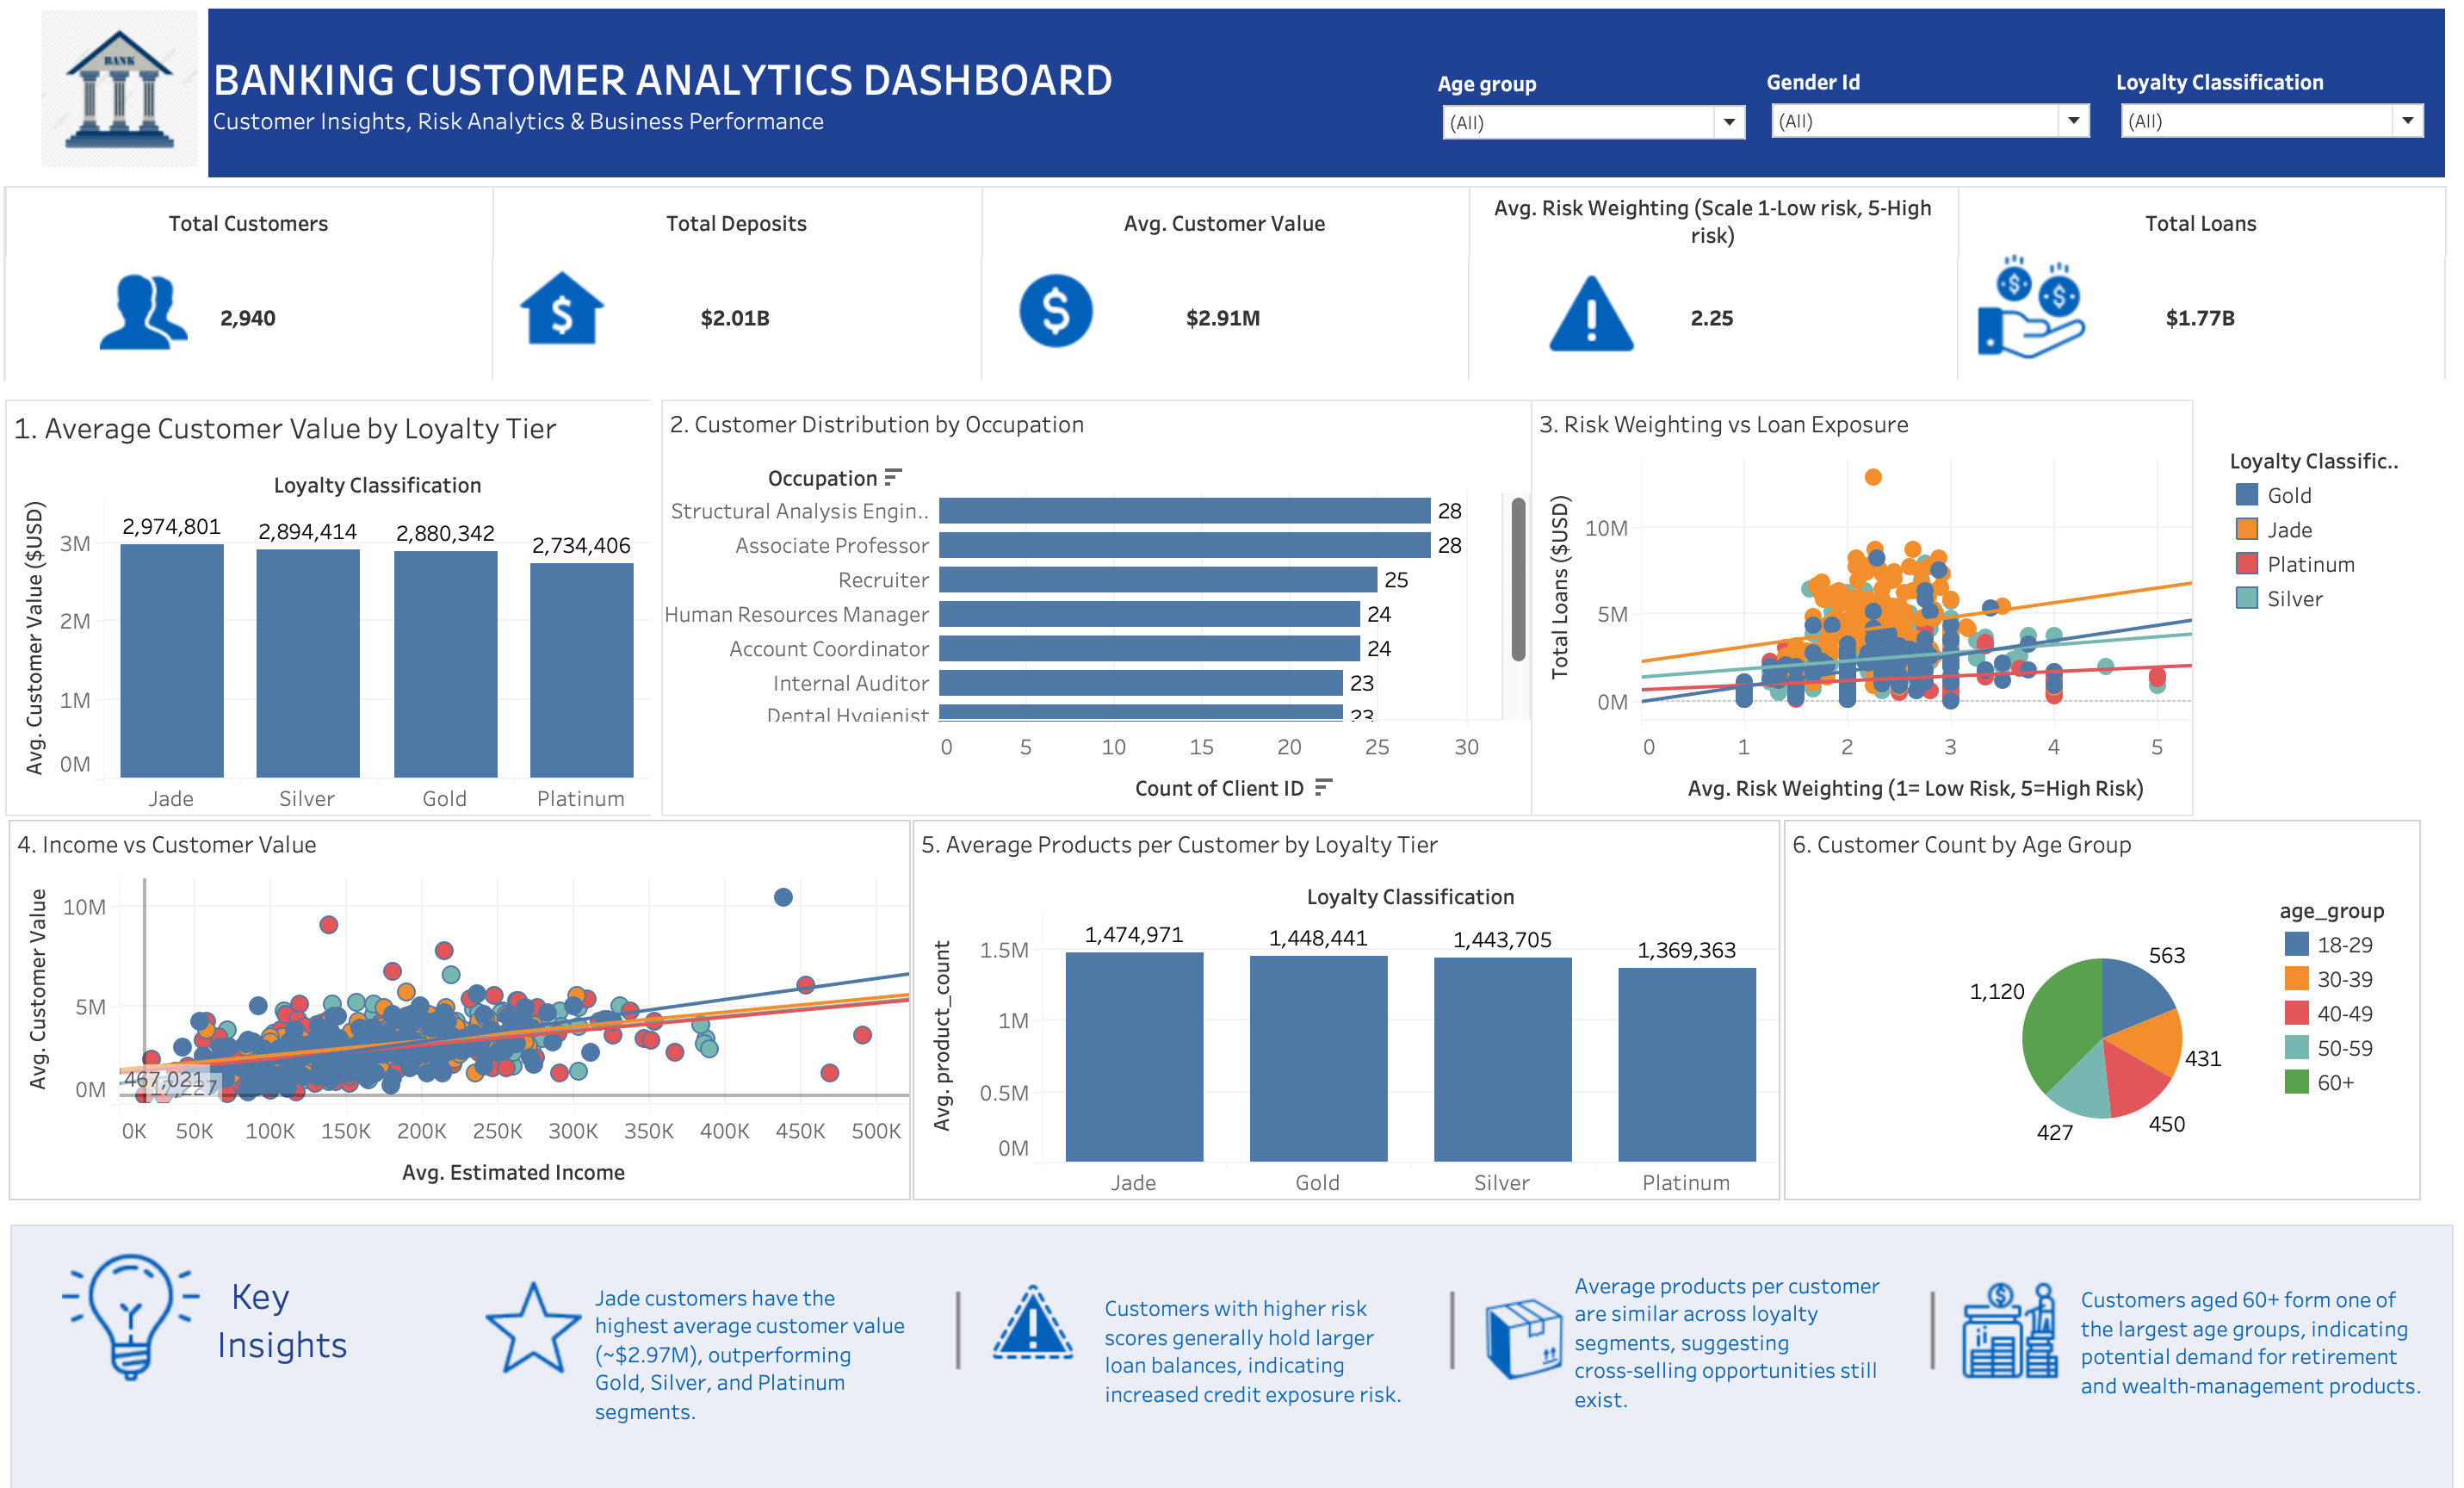

This screenshot's page, from the dashboard's own definition file:
{"tool":"tableau","page":{"name":"Dashboard 1","canvas":[1000,1000],"units":"permille","ordinal":0},"visuals":[{"type":"title","box":[86.7,5.6,902.3,112.5]},{"type":"image","param":"/Users/prerana/Documents/Banking_case/bank.jpeg","box":[19.7,6.9,63,105.6]},{"type":"filter","title":"1. Average Customer Value by Loyalty Tier","param":"[federated.03zu7t40i645pu1ckdfsu17ik44z].[none:GenderId:ok]","box":[715.5,44.4,132.4,61.1]},{"type":"filter","title":"Sheet 9","param":"[federated.03zu7t40i645pu1ckdfsu17ik44z].[none:Loyalty Classification:nk]","box":[856.6,44.4,126.1,61.1]},{"type":"filter","title":"Sheet 9","param":"[federated.03zu7t40i645pu1ckdfsu17ik44z].[none:Calculation_2319013818761217:nk]","box":[582.4,45.8,126.1,61.1]},{"type":"worksheet","title":"Sheet 9","mark":"Automatic","box":[3.9,123.6,985.8,130.6]},{"type":"image","param":"/Users/prerana/Downloads/icons8-loan-68.png","box":[799.1,166.7,45.7,77.8]},{"type":"image","param":"/Users/prerana/Downloads/icons8-customers-50-2.png","box":[43.3,177.8,35.5,62.5]},{"type":"image","param":"/Users/prerana/Downloads/icons8-bank-64.png","box":[212,177.8,35.5,62.5]},{"type":"image","param":"/Users/prerana/Downloads/icons8-dollar-50.png","box":[411.4,177.8,35.5,62.5]},{"type":"image","param":"/Users/prerana/Downloads/icons8-risk-50.png","box":[627.3,180.6,35.5,62.5]},{"type":"worksheet","title":"1. Average Customer Value by Loyalty Tier","mark":"Automatic","rows":["Customer_Value"],"cols":["Loyalty Classification"],"box":[4.7,266.7,260.8,277.8]},{"type":"worksheet","title":"2.","mark":"Automatic","rows":["Occupation"],"cols":["Client ID"],"box":[269.5,266.7,351.5,277.8]},{"type":"worksheet","title":"3. Risk Weighting vs Loan Exposure","mark":"Circle","rows":["Bank Loans"],"cols":["Risk Weighting"],"box":[620,266.7,267.7,277.8]},{"type":"legend","title":"4. Income vs Customer Value","param":"[federated.03zu7t40i645pu1ckdfsu17ik44z].[none:Loyalty Classification:nk]","box":[902.3,297.2,71.7,155.6]},{"type":"worksheet","title":"4. Income vs Customer Value","mark":"Circle","rows":["Customer_Value"],"cols":["Estimated Income"],"box":[6.3,547.2,364.1,254.2]},{"type":"worksheet","title":"5. Average Products per Customer by Loyalty Tier ","mark":"Bar","rows":["Calculation_2319013798510592"],"cols":["Loyalty Classification"],"box":[371,547.2,349.9,254.2]},{"type":"worksheet","title":"6. Customer Count by Age Group","mark":"Pie","box":[722.5,547.2,257.1,254.2]},{"type":"text","box":[241.1,811.1,128.4,186.1]},{"type":"text","box":[635.9,812.5,135.5,168.1]},{"type":"text","box":[446.8,822.2,123.7,161.1]},{"type":"image","param":"/Users/prerana/Downloads/icons8-idea-64.png","box":[27.6,830.6,64.6,95.8]},{"type":"text","box":[88.3,831.9,78.8,97.2]},{"type":"text","box":[840,831.9,142.6,129.2]},{"type":"image","param":"/Users/prerana/Downloads/icons8-low-risk-50.png","box":[401.9,852.8,34.7,63.9]},{"type":"image","param":"/Users/prerana/Downloads/icons8-star-50.png","box":[198.6,854.2,43.3,63.9]},{"type":"image","param":"/Users/prerana/Downloads/icons8-retirement-64.png","box":[792.8,854.2,41,69.4]},{"type":"image","param":"/Users/prerana/Downloads/icons8-vertical-line-50.png","box":[371.9,859.7,33.9,70.8]},{"type":"image","param":"/Users/prerana/Downloads/icons8-vertical-line-50.png","box":[571.3,859.7,33.9,70.8]},{"type":"image","param":"/Users/prerana/Downloads/icons8-vertical-line-50.png","box":[765.2,859.7,33.9,116.7]},{"type":"image","param":"/Users/prerana/Downloads/icons8-products-100.png","box":[597.3,861.1,44.9,65.3]}]}

Visuals, with their boxes on the dashboard's canvas, which has no fixed pixel size, in thousandths of its width and height (x1, y1, x2, y2). These are canvas units, not pixel positions in the 2464x1488 screenshot, which may show the page scaled, cropped or inside an application window:
title: (87, 6, 989, 118)
image: (20, 7, 83, 112)
"1. Average Customer Value by Loyalty Tier" filter: (716, 44, 848, 106)
"Sheet 9" filter: (857, 44, 983, 106)
"Sheet 9" filter: (582, 46, 708, 107)
"Sheet 9" worksheet: (4, 124, 990, 254)
image: (799, 167, 845, 244)
image: (43, 178, 79, 240)
image: (212, 178, 248, 240)
image: (411, 178, 447, 240)
image: (627, 181, 663, 243)
"1. Average Customer Value by Loyalty Tier" worksheet: (5, 267, 266, 544)
"2." worksheet: (270, 267, 621, 544)
"3. Risk Weighting vs Loan Exposure" worksheet (Circle marks): (620, 267, 888, 544)
"4. Income vs Customer Value" legend: (902, 297, 974, 453)
"4. Income vs Customer Value" worksheet (Circle marks): (6, 547, 370, 801)
"5. Average Products per Customer by Loyalty Tier " worksheet (Bar marks): (371, 547, 721, 801)
"6. Customer Count by Age Group" worksheet (Pie marks): (722, 547, 980, 801)
text: (241, 811, 370, 997)
text: (636, 812, 771, 981)
text: (447, 822, 570, 983)
image: (28, 831, 92, 926)
text: (88, 832, 167, 929)
text: (840, 832, 983, 961)
image: (402, 853, 437, 917)
image: (199, 854, 242, 918)
image: (793, 854, 834, 924)
image: (372, 860, 406, 930)
image: (571, 860, 605, 930)
image: (765, 860, 799, 976)
image: (597, 861, 642, 926)
